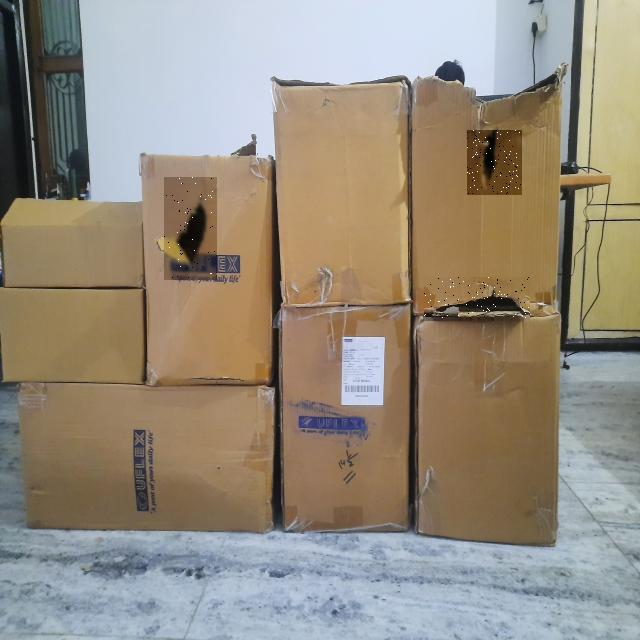leakage: (164, 177, 215, 280), (424, 277, 529, 318), (468, 131, 521, 194)
